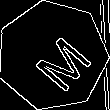M_NW: (18, 22, 87, 89)
